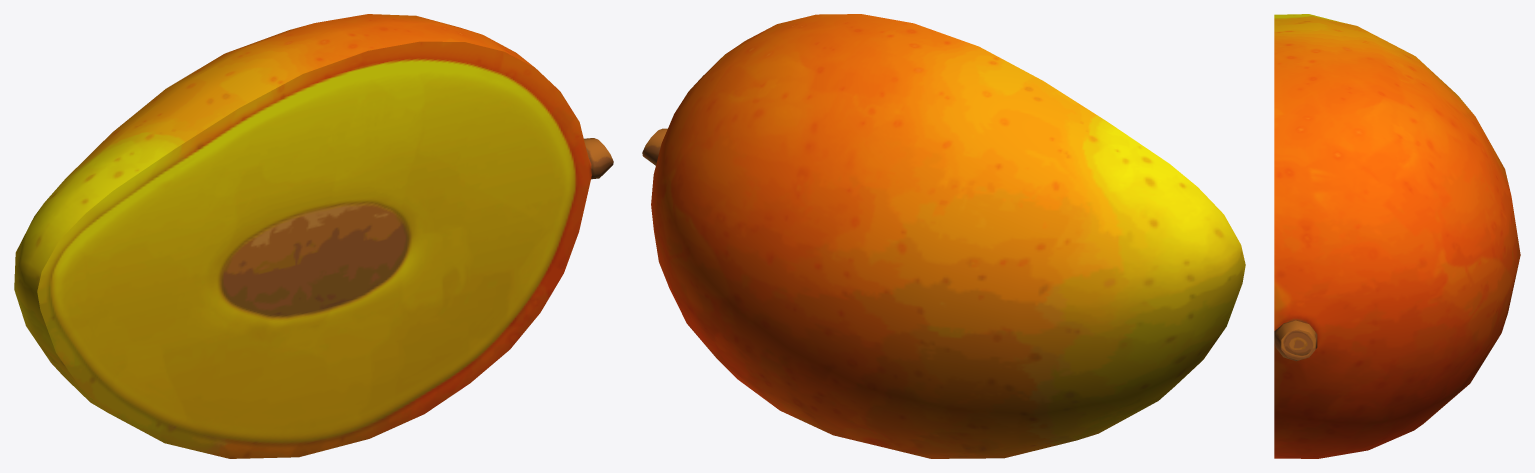
Rendered from SM_MangoCutB.fbx.
3 renders of one model, left to right at view 1: azimuth 30°, elevation 25°; view 2: azimuth 150°, elevation 25°; view 3: azimuth 270°, elevation 25°, orthographic. The views are drawn at different scales.
Parts seen in each view (by area): view 1: SM_MangoCutB; view 2: SM_MangoCutB; view 3: SM_MangoCutB.
Part boxes in pixels (x1=…): SM_MangoCutB: x1=14, y1=14, x2=613, y2=458; SM_MangoCutB: x1=642, y1=14, x2=1245, y2=458; SM_MangoCutB: x1=1274, y1=14, x2=1520, y2=458.
Size of the model in its own units: 24.05 by 15.39 by 8.95.
